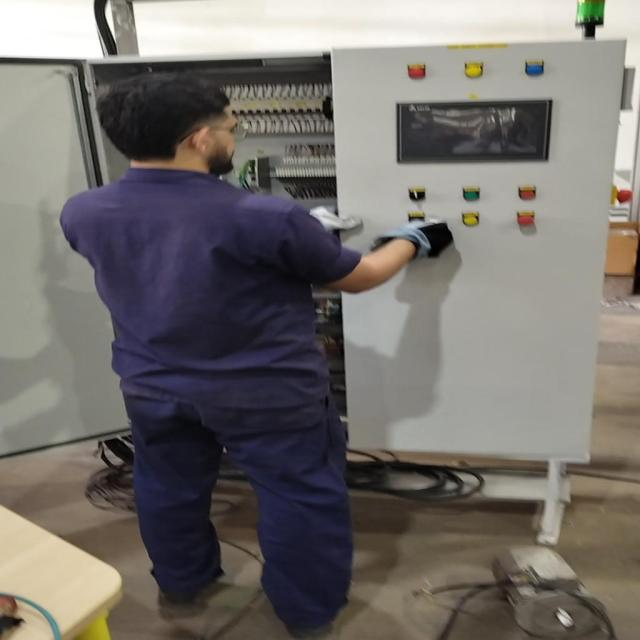Gloves-Detection: (374, 219, 451, 262), (288, 197, 354, 234)
